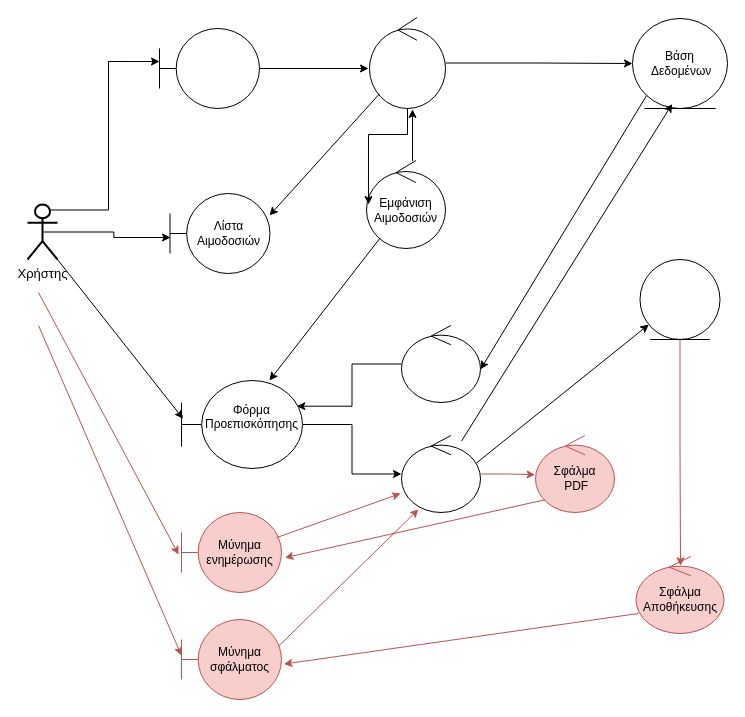
Image size: 745x717. Some labels were removed from this diagram. The centre of each missing label's shape, as x and y in pixels:
Έκδοση Βεβαίωσης: the point at 209,68
Ανάκτηση & Προετοιμασία Στοιχείων: the point at 440,363
Αναζήτηση Αιμοδοσιών: the point at 407,62
Δημιουργία PDF: the point at 440,473
Προφίλ εθελοντή: the point at 679,299
